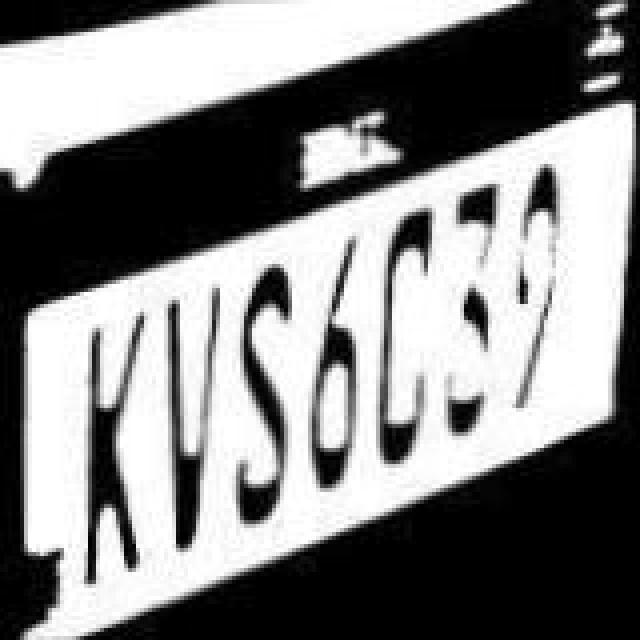3: (438, 172, 506, 444)
6: (308, 216, 372, 500)
9: (506, 148, 574, 420)
C: (370, 198, 438, 474)
K: (82, 300, 150, 596)
S: (224, 252, 316, 528)
V: (154, 276, 234, 556)
